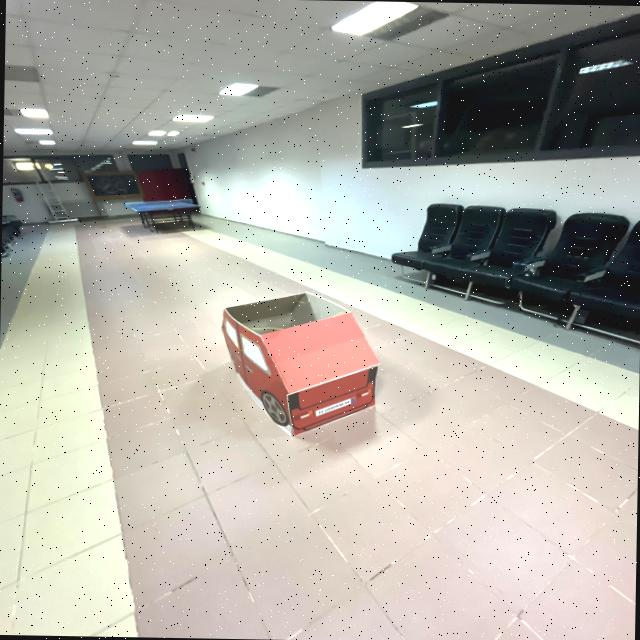red_car: (195, 281, 405, 450)
